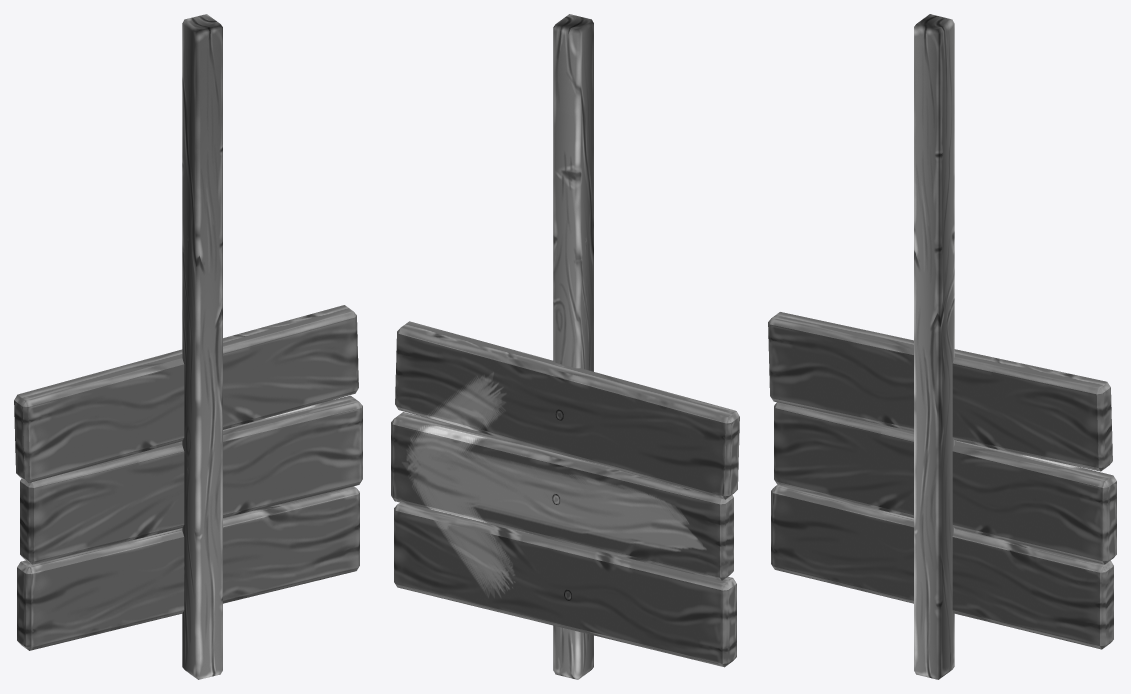
File: SM_Panneau_Droit.FBX
3 views of the same model, side by side, from view 1: azimuth 30°, elevation 25°; view 2: azimuth 150°, elevation 25°; view 3: azimuth 330°, elevation 25° (orthographic).
Visible parts, largest first — view 1: WoodPlank_LP011; view 2: WoodPlank_LP011; view 3: WoodPlank_LP011.
Boxes of the visible parts, left/top/right/bottom form: WoodPlank_LP011: left=14, top=14, right=362, bottom=679; WoodPlank_LP011: left=391, top=14, right=739, bottom=679; WoodPlank_LP011: left=768, top=14, right=1116, bottom=679.
Bounding box in the file's own units: 61.97 × 113 × 8.1.
